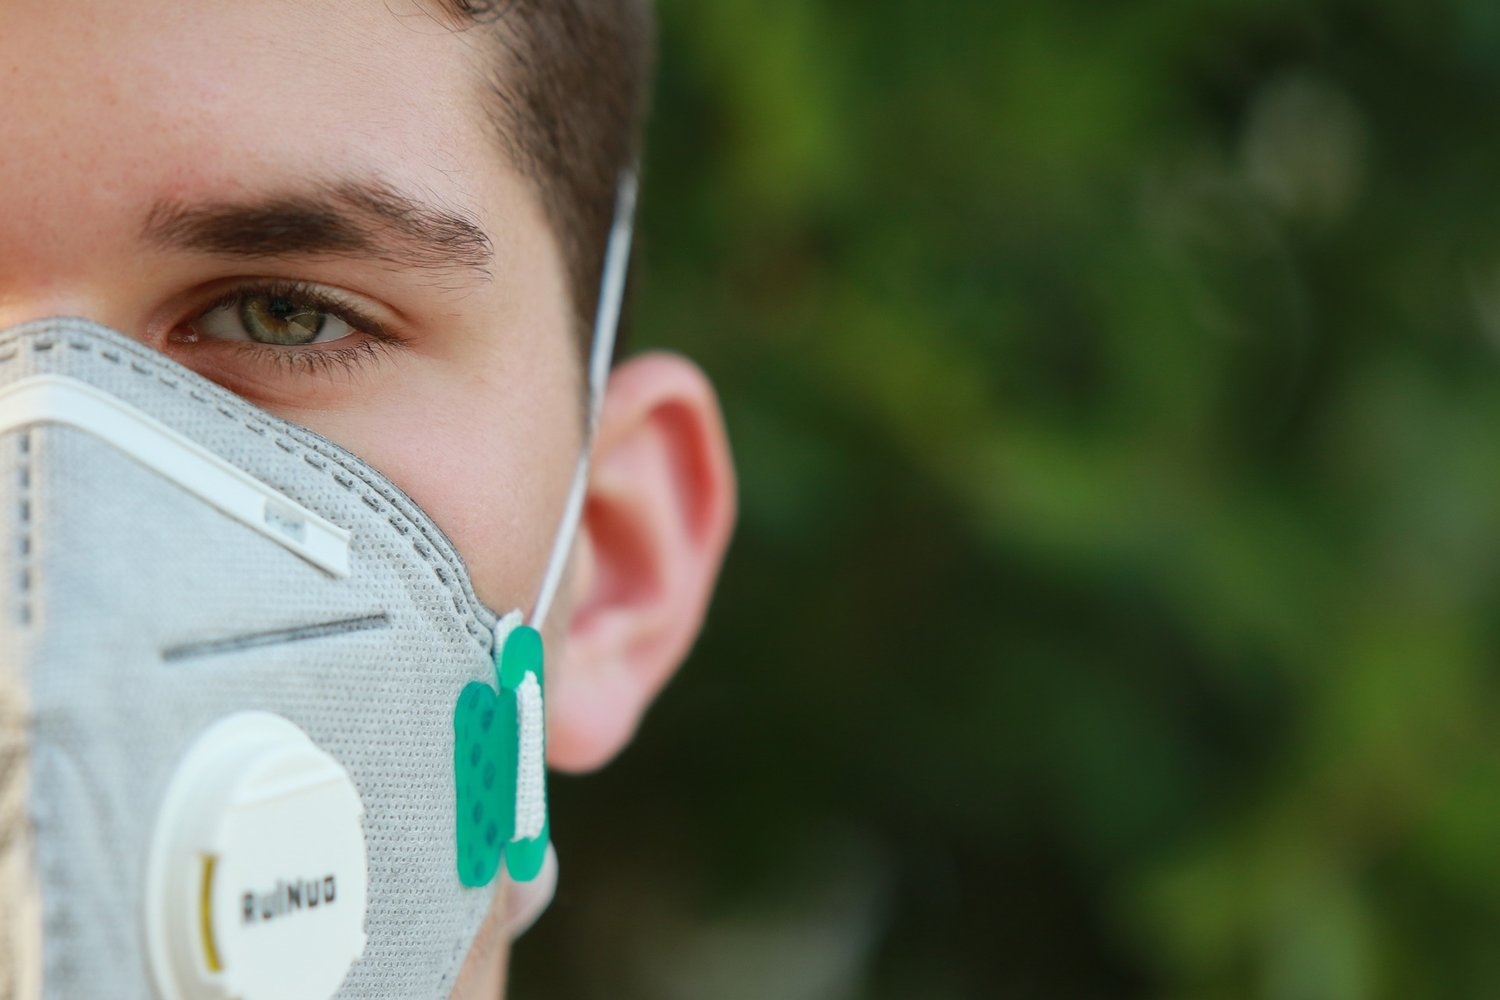with_mask: (9, 4, 752, 1000)
